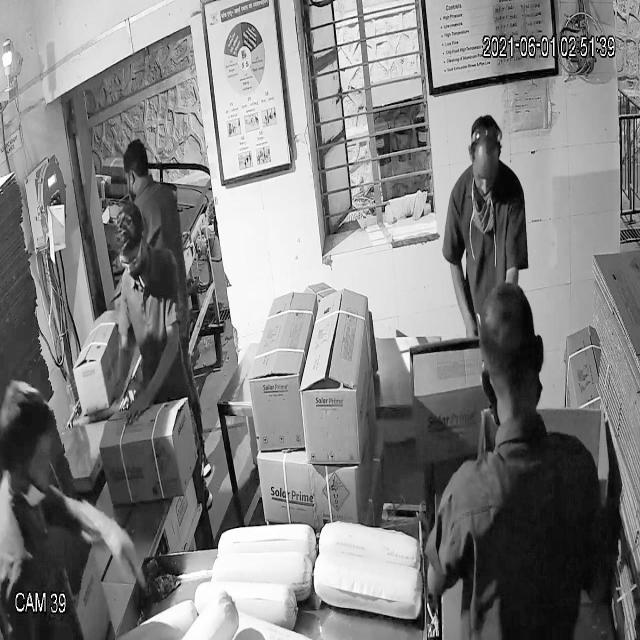glasses: (112, 245, 148, 278)
